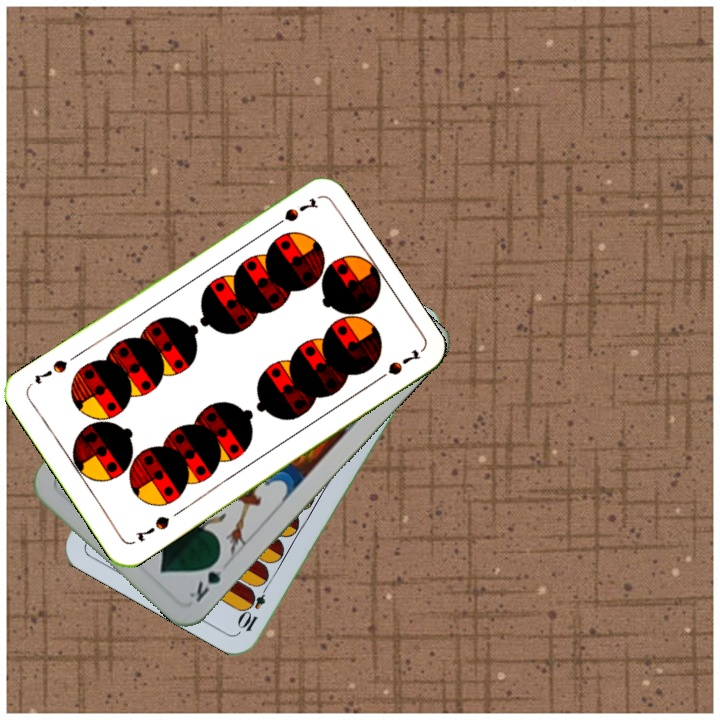E10: (235, 578, 272, 634)
GK: (185, 552, 225, 605)
S7: (268, 194, 321, 231), (131, 511, 172, 544)
